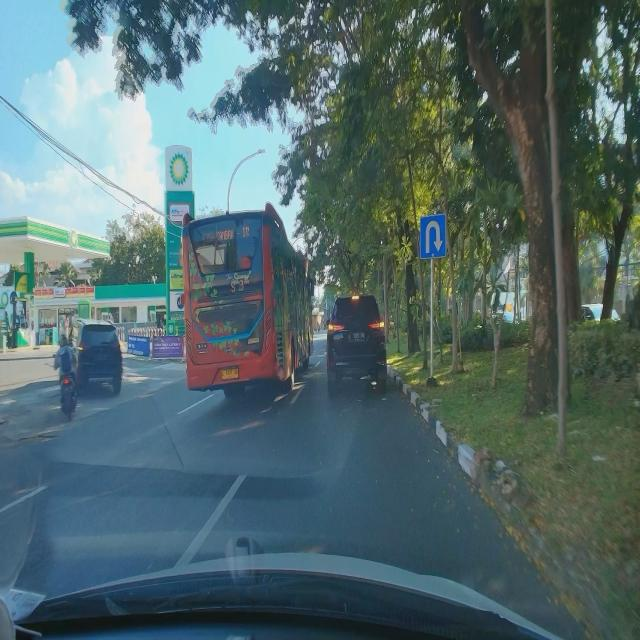bus: (181, 202, 315, 400)
car: (325, 292, 387, 396)
license-plate: (221, 368, 239, 380), (348, 332, 365, 343)
